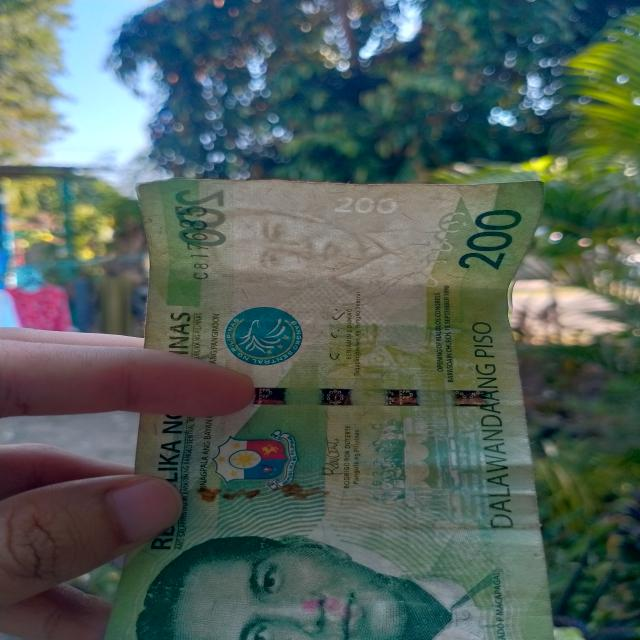security_thread: (230, 385, 534, 409)
see_through_mark: (408, 208, 472, 296)
value_watermark: (326, 192, 406, 220)
watermark: (197, 203, 423, 311)
